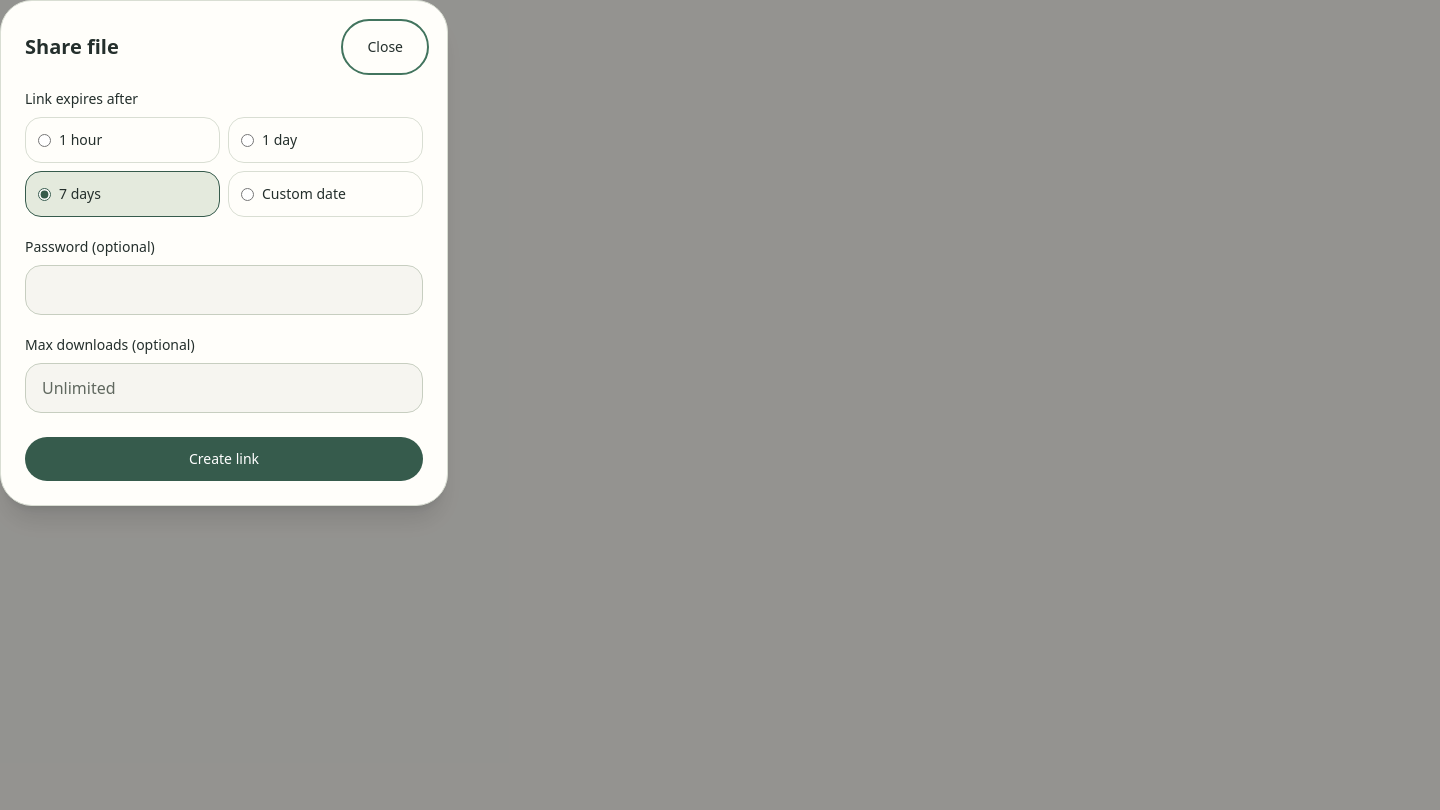
Test: shows specific API errors and lets the user try again
This screenshot has width=1440, height=810.
Click the button "Create link" at (224, 459), box x1=25 y1=437 x2=423 y2=481
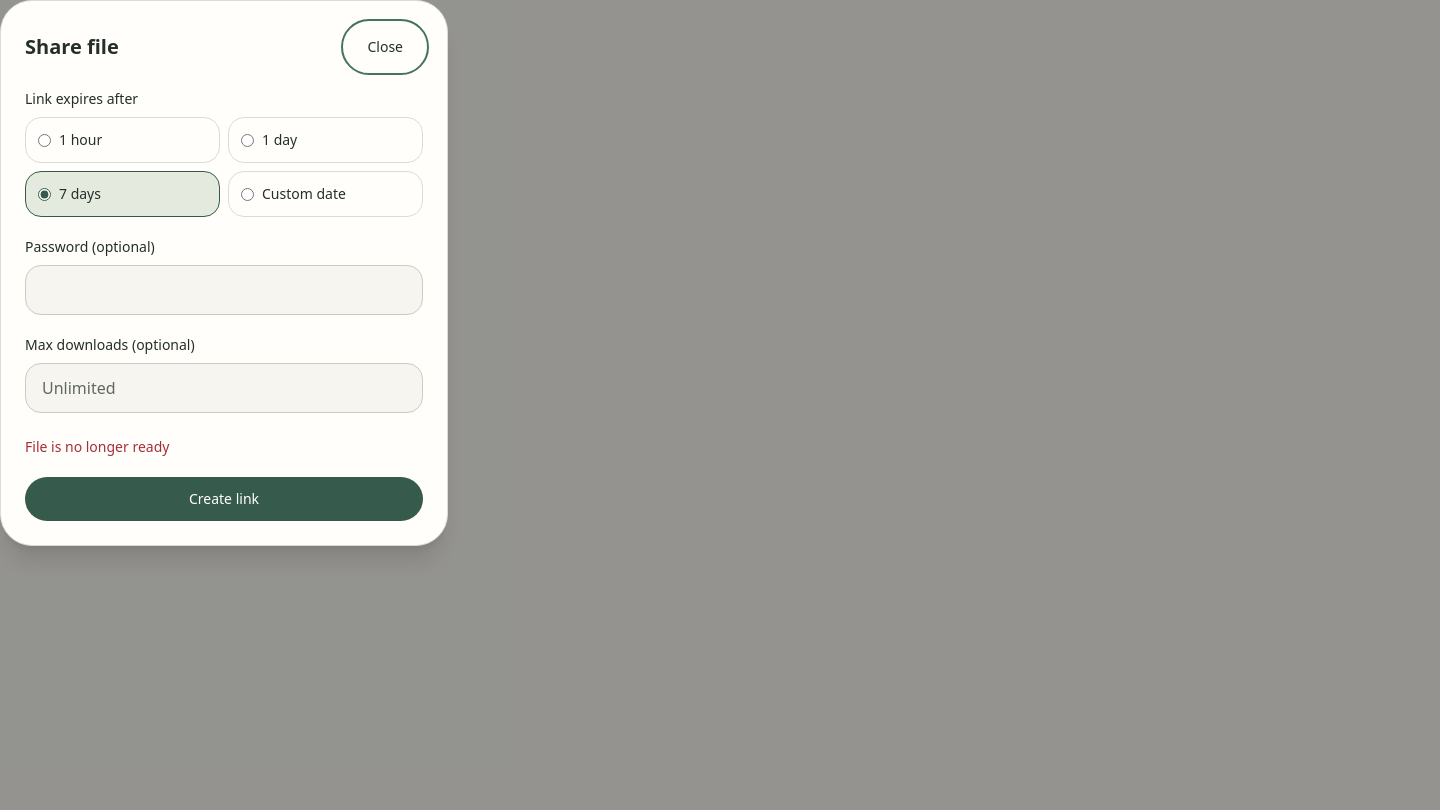
Check: the button "Create link" is enabled, box x1=25 y1=477 x2=423 y2=521
Check: the message reads "File is no longer ready", box x1=25 y1=437 x2=169 y2=456
